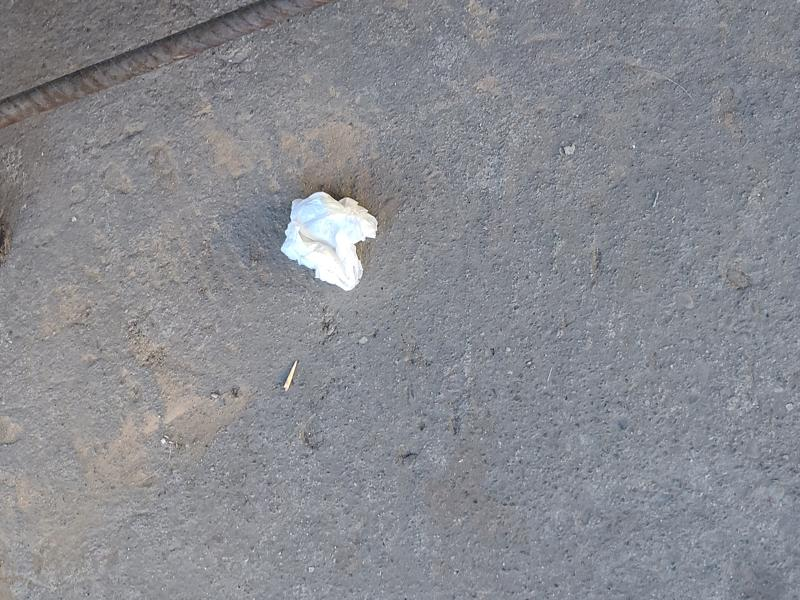papel: (281, 193, 380, 293)
